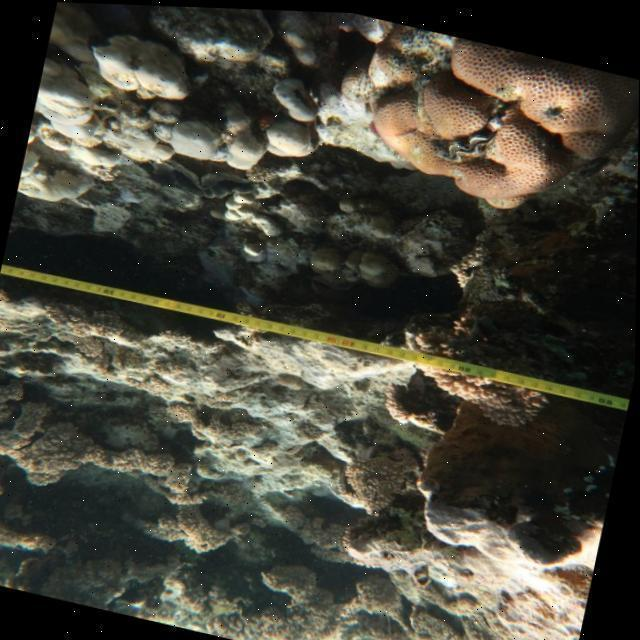Healthy Coral: (346, 16, 623, 236)
